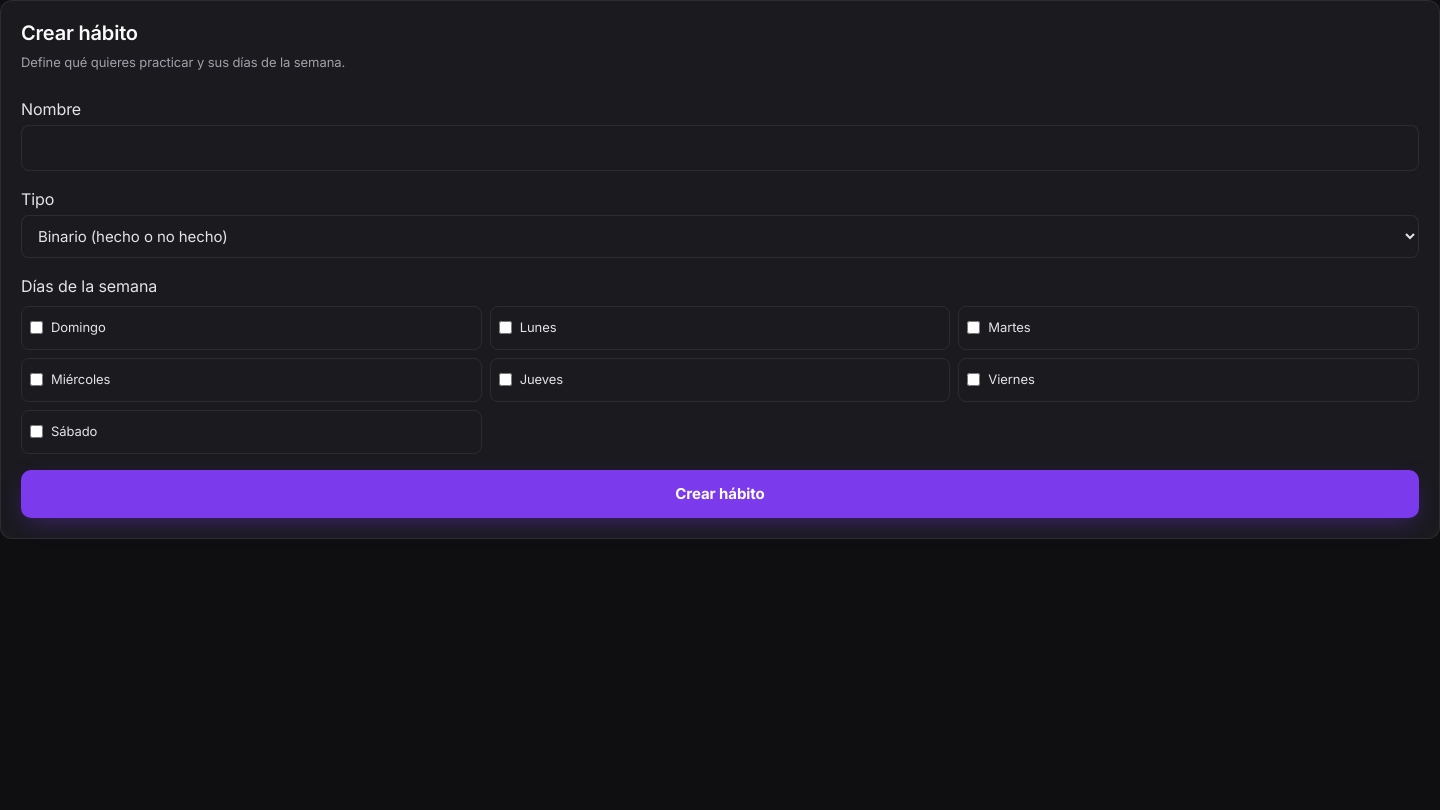
Test: create habit form › validates accessible name and frequency errors and focuses first field
The width and height of the screenshot is (1440, 810).
Click the button "Crear hábito".
click(720, 494)  # box left=21, top=470, right=1419, bottom=518
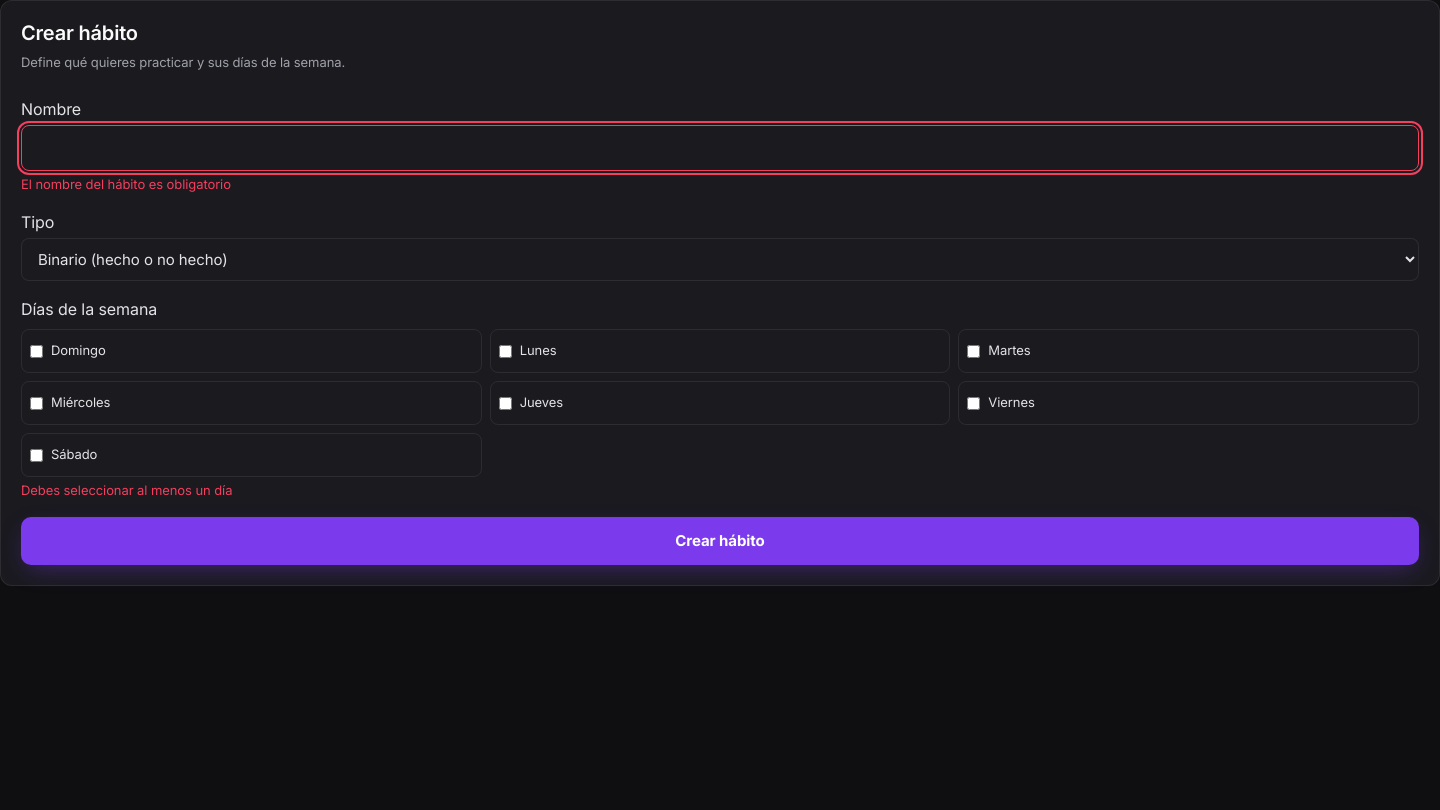
Check: the text "Debes seleccionar al menos un día" is shown, box left=21, top=482, right=232, bottom=498
